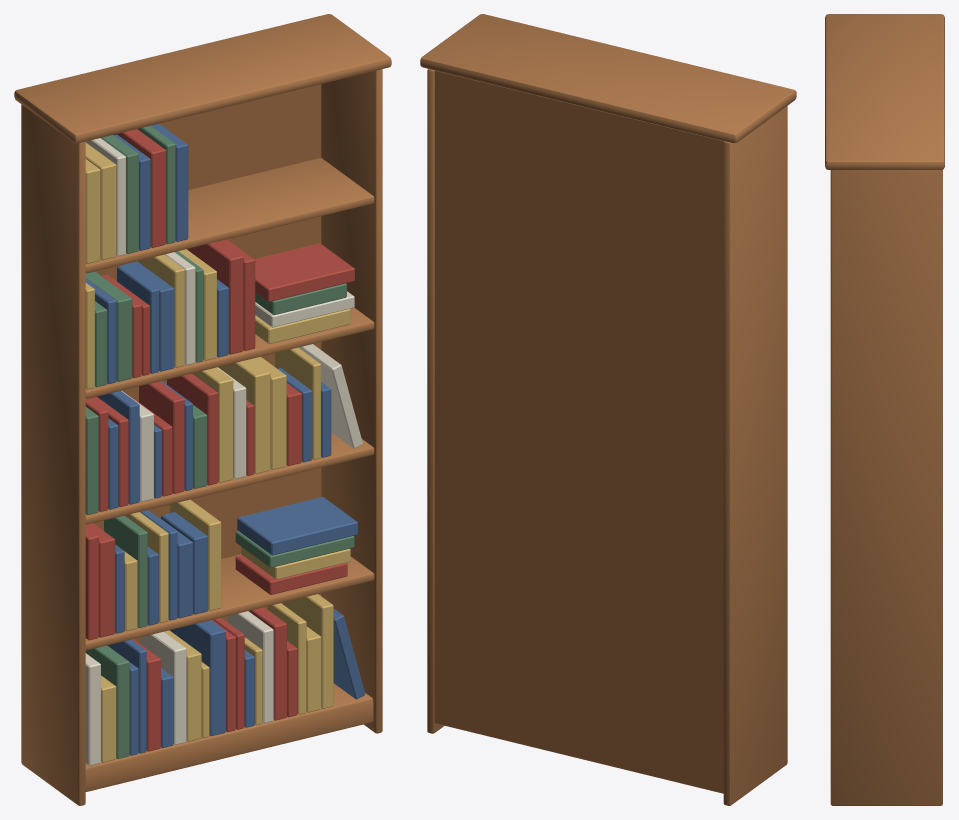
File: Bookshelf.fbx
3 renders of one model, left to right at view 1: azimuth 30°, elevation 25°; view 2: azimuth 150°, elevation 25°; view 3: azimuth 270°, elevation 25°, orthographic. The views are drawn at different scales.
Visible parts, largest first — view 1: Bookshelf_Mesh; view 2: Bookshelf_Mesh; view 3: Bookshelf_Mesh.
Part boxes in pixels (x1,y1,x2,y2): Bookshelf_Mesh: (14, 14, 391, 805); Bookshelf_Mesh: (420, 14, 796, 805); Bookshelf_Mesh: (825, 14, 944, 805).
Bounding box in the file's own units: 0.94 × 1.91 × 0.32.
